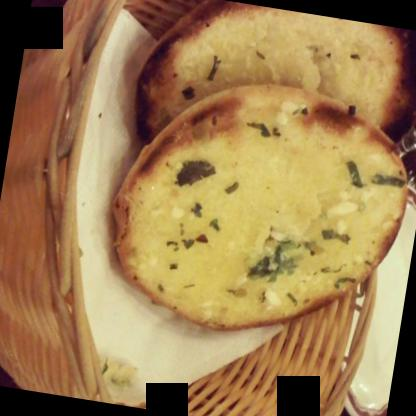toast bread: (101, 65, 416, 350), (123, 0, 415, 181)
